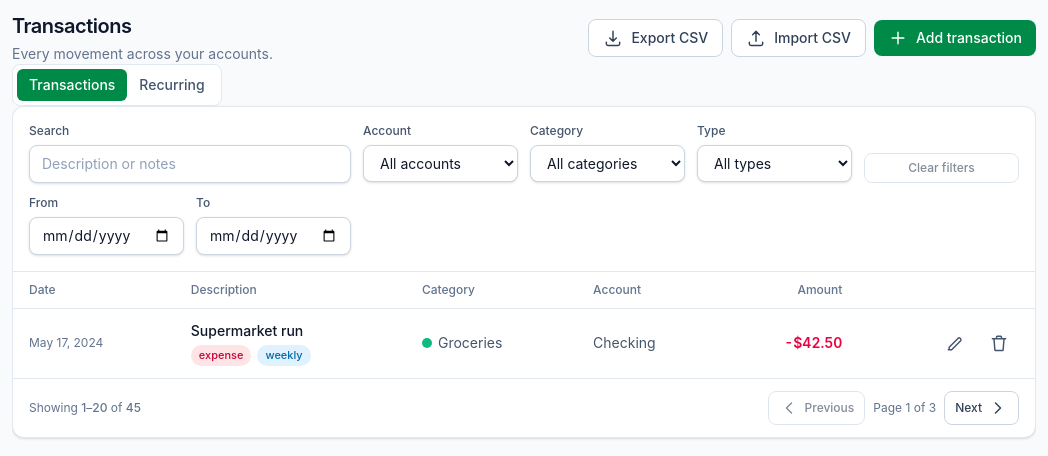
Test case: TransactionsPage › enables the clear button only when a filter is set
Expected: the text "Supermarket run" is shown, x1=191 y1=322 x2=303 y2=339
Expected: the button "Clear filters" is disabled, x1=864 y1=153 x2=1019 y2=183
Step 1. Type "coffee" into the search field labelled "Search" → coordinates (190, 164), box x1=29 y1=145 x2=351 y2=183
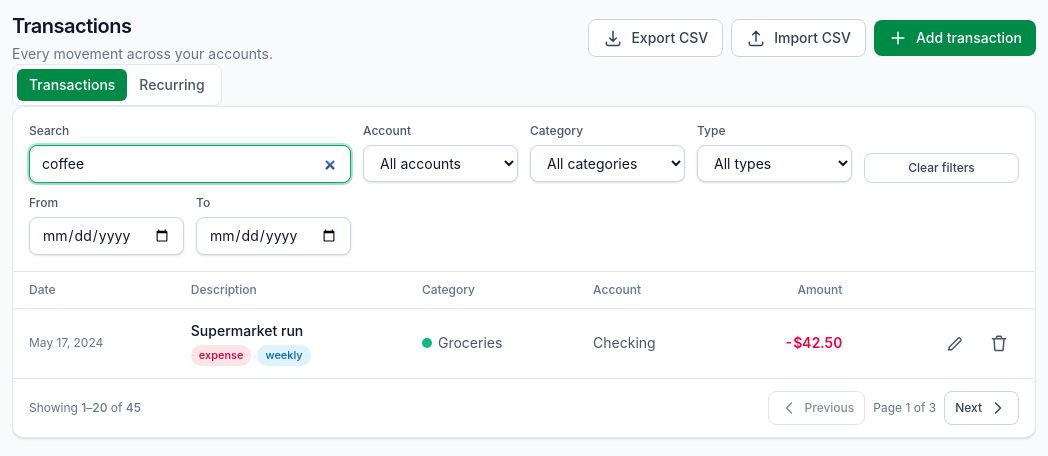
Now the button "Clear filters" is enabled
Step 2. Click the button "Clear filters" → coordinates (942, 168), box x1=864 y1=153 x2=1019 y2=183
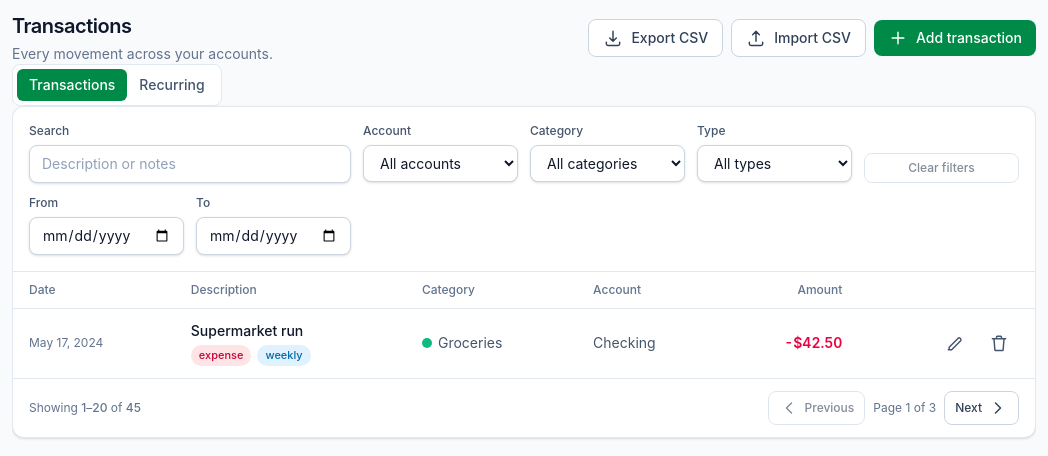
Now the search field labelled "Search" is empty, box x1=29 y1=145 x2=351 y2=183
